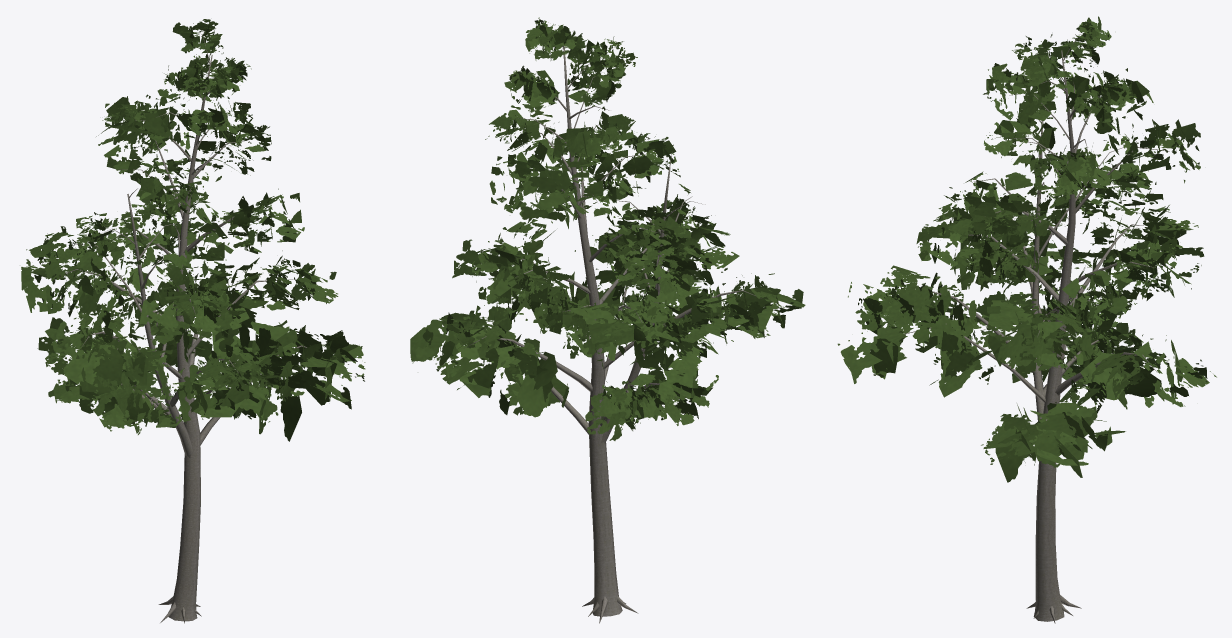
The model's file is HeroPaperBirchLOD0.fbx.
3 views of the same model, side by side, from view 1: azimuth 30°, elevation 25°; view 2: azimuth 150°, elevation 25°; view 3: azimuth 270°, elevation 25° (orthographic). The views are drawn at different scales.
Visible parts, largest first — view 1: Foliage, Bark; view 2: Foliage, Bark; view 3: Foliage, Bark.
Part boxes in pixels (left/top/right/bottom): Foliage: left=21, top=19, right=365, bottom=441; Bark: left=60, top=33, right=319, bottom=623; Foliage: left=410, top=17, right=805, bottom=440; Bark: left=464, top=29, right=761, bottom=623; Foliage: left=837, top=16, right=1216, bottom=482; Bark: left=904, top=34, right=1171, bottom=623.
Bounding box in the file's own units: 11.61 × 18.65 × 10.63.
